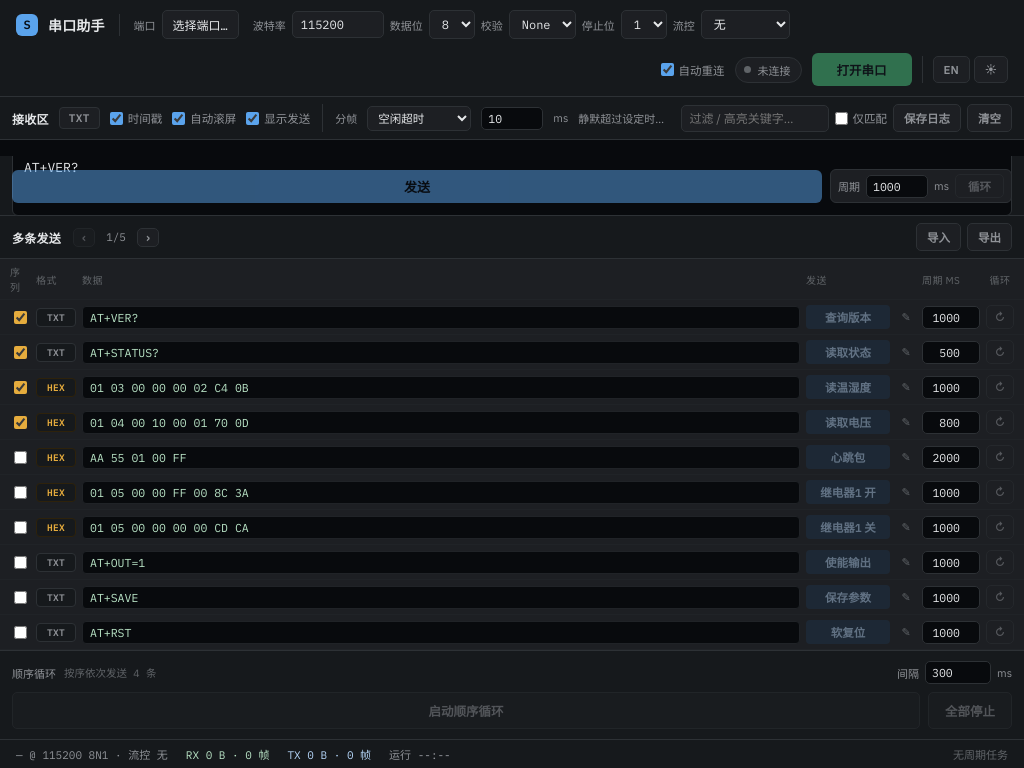
Test: App › 语言切换后界面文案整体换成英文
(page scrolled)
Expected: the text "接收区" is shown, [12,110,49,126]
Click the button "EN" at point(951, 70), box [932,56,970,83]
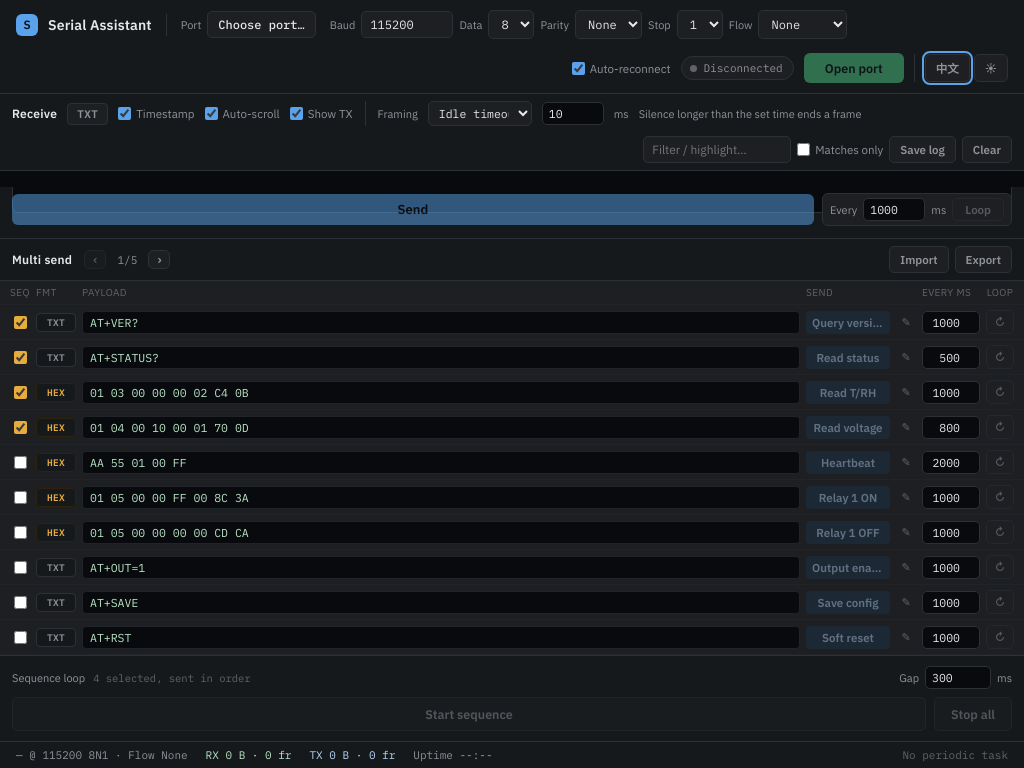
Now the text "Receive" is shown, box [12,106,57,121]
Now the text "接收区" is gone
